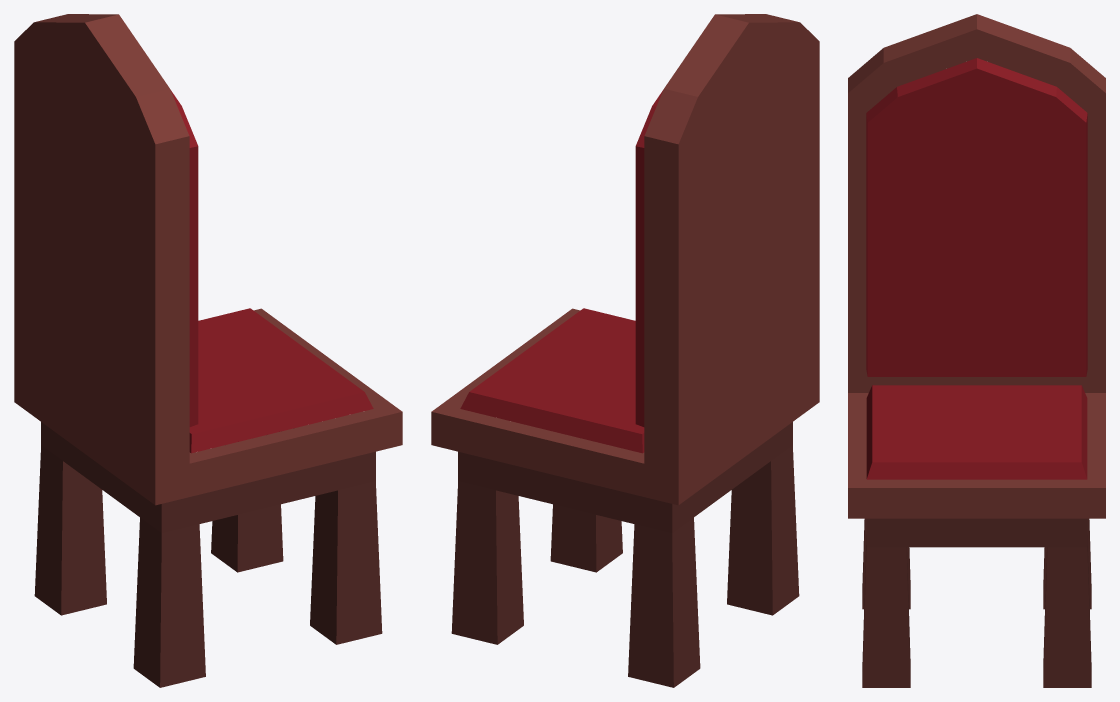
Rendered from ChairCushioned.glb.
3 views of the same model, side by side, from view 1: azimuth 30°, elevation 25°; view 2: azimuth 150°, elevation 25°; view 3: azimuth 270°, elevation 25° (orthographic). The views are drawn at different scales.
Visible parts, largest first — view 1: Cushioned Chair; view 2: Cushioned Chair; view 3: Cushioned Chair.
Part boxes in pixels (x1,y1,x2,y2): Cushioned Chair: [14, 14, 402, 687]; Cushioned Chair: [431, 14, 819, 687]; Cushioned Chair: [848, 14, 1105, 687].
Size of the model in its own units: 0.4379 by 1.05 by 0.4326.
